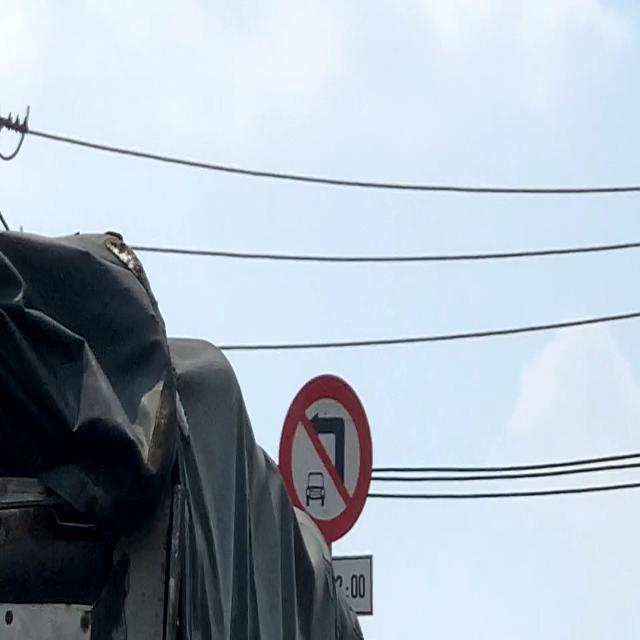123a-cam-re-trai: (274, 370, 374, 542)
